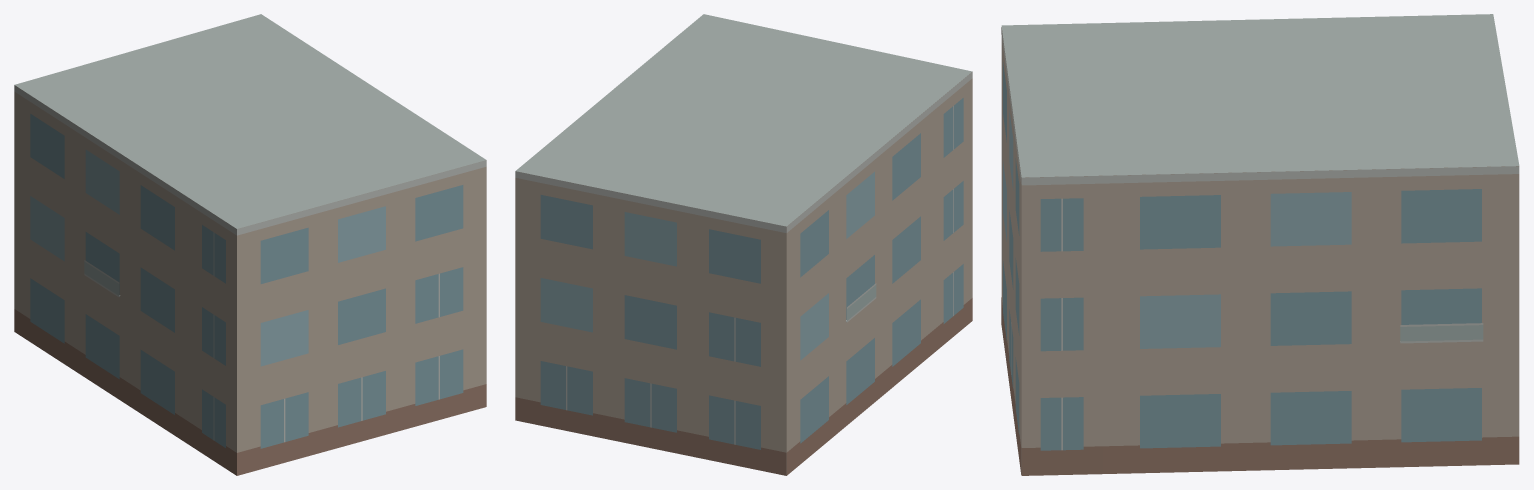
Rendered from survey-upis-32775465.glb.
3 views of the same model, side by side, from view 1: azimuth 30°, elevation 25°; view 2: azimuth 150°, elevation 25°; view 3: azimuth 270°, elevation 25° (orthographic). The views are drawn at different scales.
Visible parts, largest first — view 1: survey-upis-32775465.tmp; view 2: survey-upis-32775465.tmp; view 3: survey-upis-32775465.tmp.
Part boxes in pixels (x1,y1,x2,y2): survey-upis-32775465.tmp: (14, 14, 486, 475); survey-upis-32775465.tmp: (515, 14, 972, 475); survey-upis-32775465.tmp: (1001, 14, 1519, 475).
Bounding box in the file's own units: 10.77 × 9.15 × 14.41.
